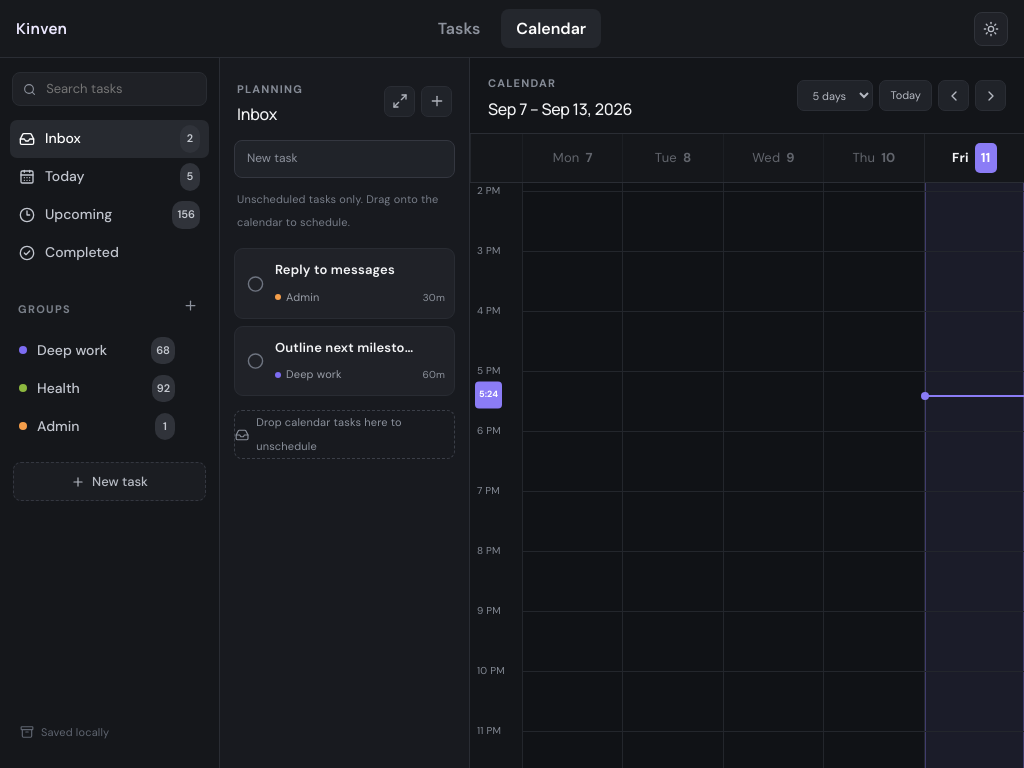
Scenario: calendar planning pane filter regressions › expands the current pane filter into the full list
The width and height of the screenshot is (1024, 768).
(page scrolled)
Click the button "Upcoming 156".
click(110, 215)  # box [10,196,209,234]
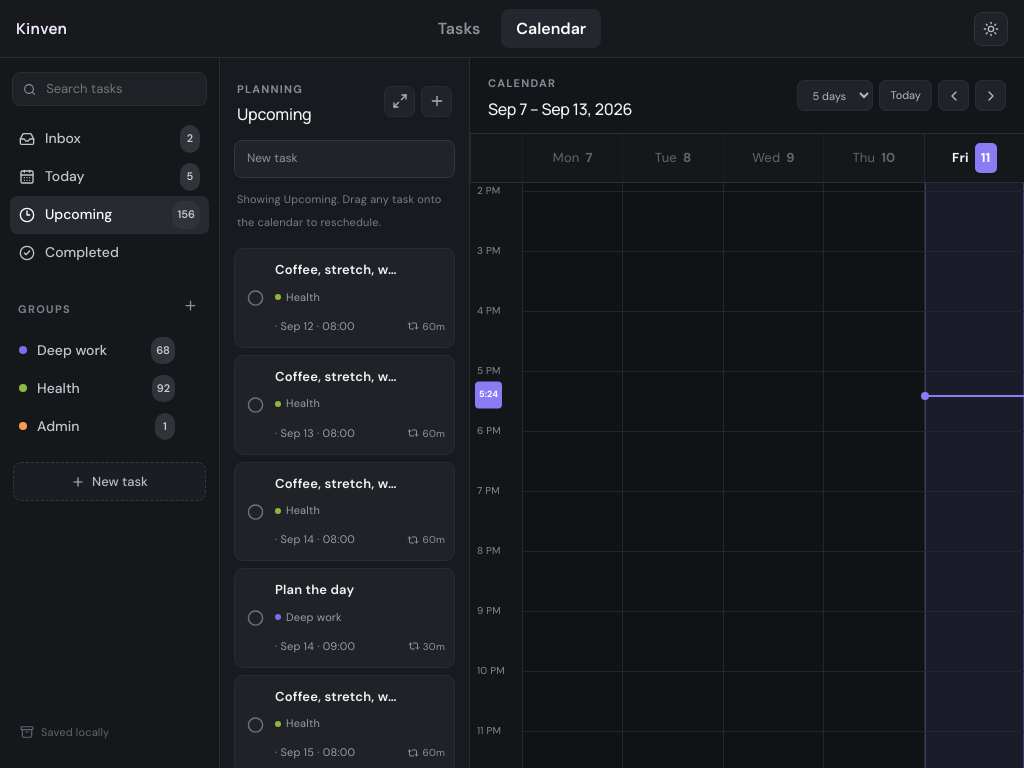
Click the button named "Open full list".
click(400, 101)  # box [384,86,415,116]
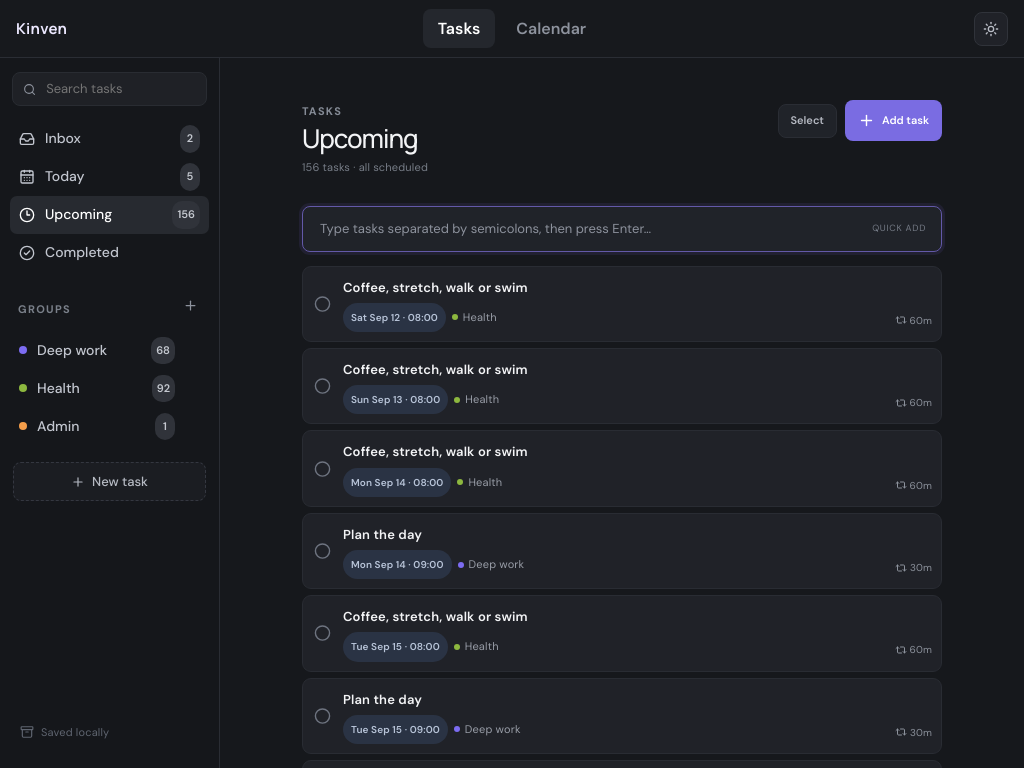
Check: the heading "Upcoming" is shown, box [302,127,428,150]
Check: the element with class "calendar-view" is gone
